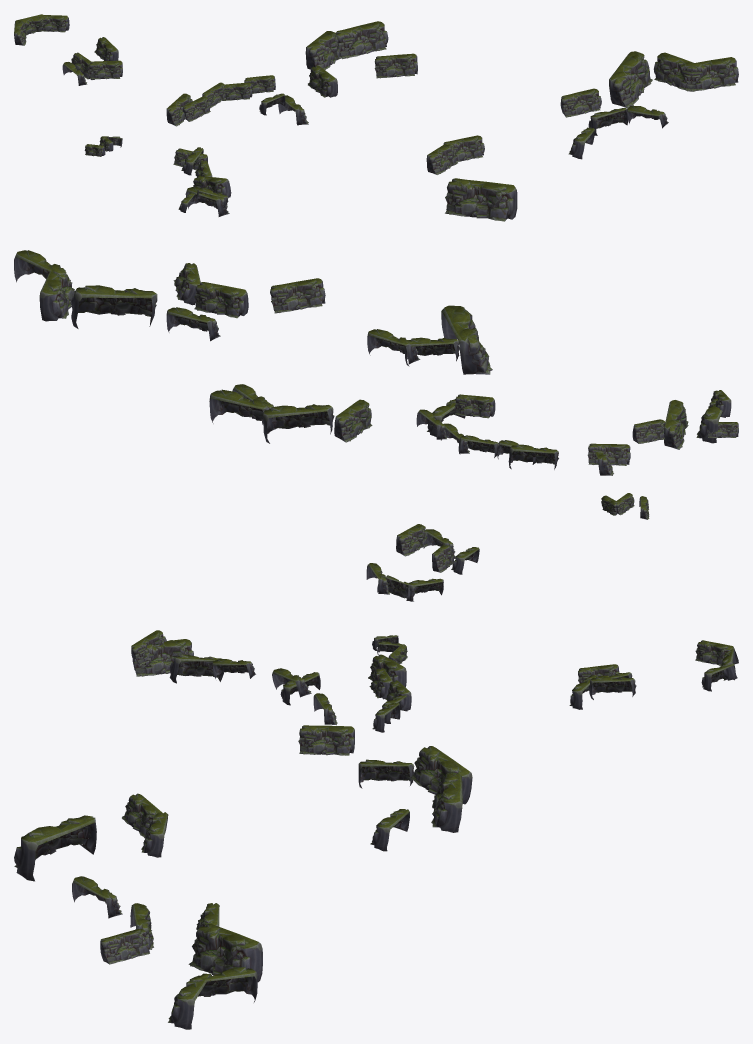
File: Stone_Cliff_1.FBX
The picture shows the model from 3 angles, top to bottom: view 1: azimuth 30°, elevation 25°; view 2: azimuth 150°, elevation 25°; view 3: azimuth 270°, elevation 25°; orthographic projection. The views are drawn at different scales.
Parts seen in each view (by area): view 1: CliffWallLowPoly023; view 2: CliffWallLowPoly023; view 3: CliffWallLowPoly023.
Part boxes in pixels (x1=…): CliffWallLowPoly023: x1=14, y1=14, x2=738, y2=221; CliffWallLowPoly023: x1=14, y1=250, x2=738, y2=601; CliffWallLowPoly023: x1=14, y1=630, x2=738, y2=1029.
Bounding box in the file's own units: 1102 × 136 × 903.
